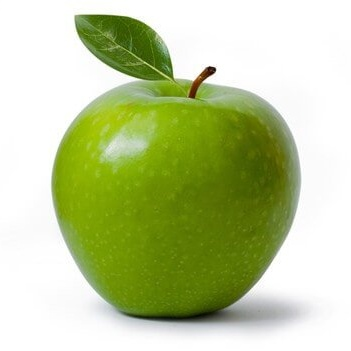apple: (53, 79, 301, 318)
